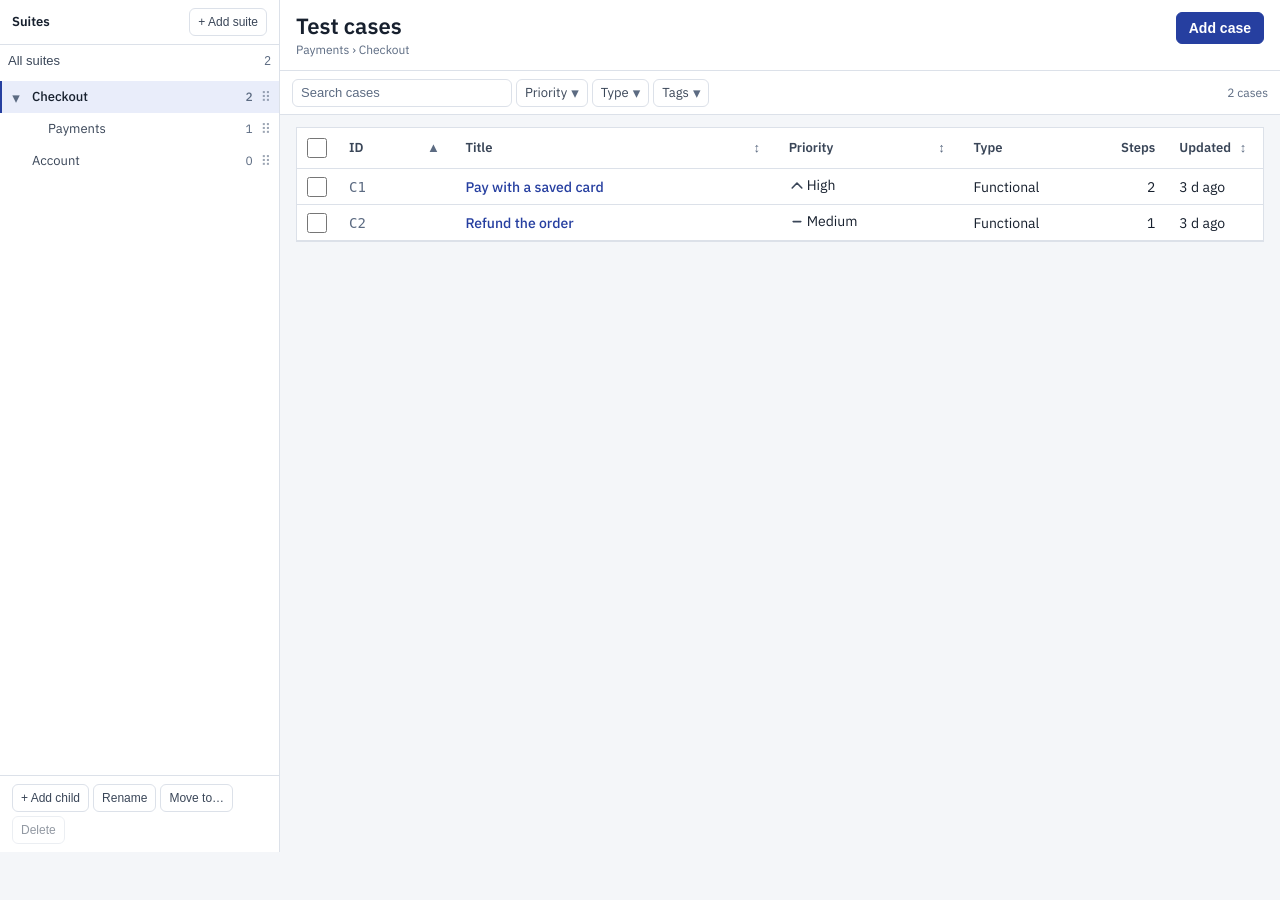
Scenario: cases screen › closes an empty New case form without asking
Expected: the button with aria-label "Open C1" is shown, [465,176,604,196]
Click the button "Add case".
click(1220, 28)  # box [1176,12,1264,44]
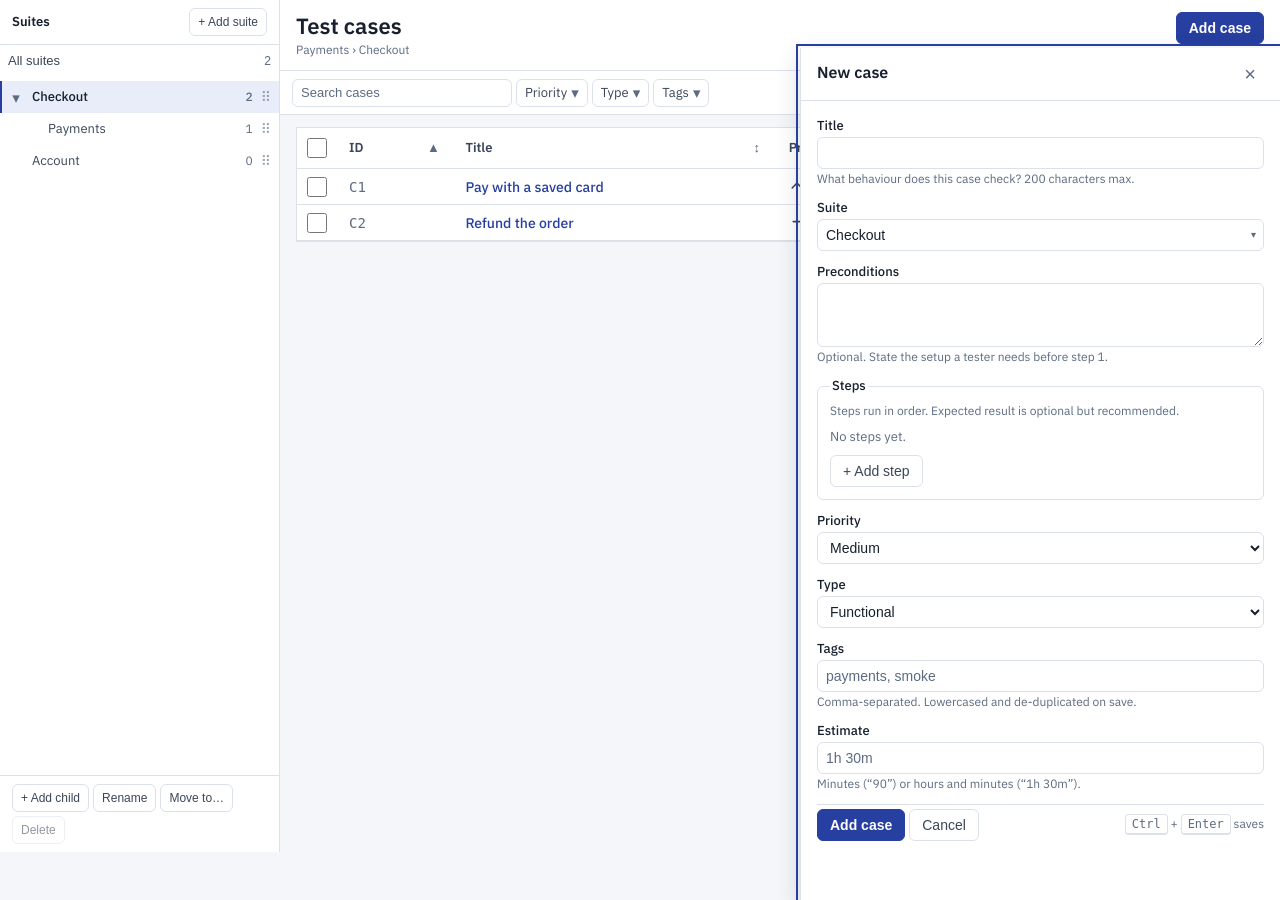
Click the button named "Close".
click(1250, 74)  # box [1236,60,1264,88]
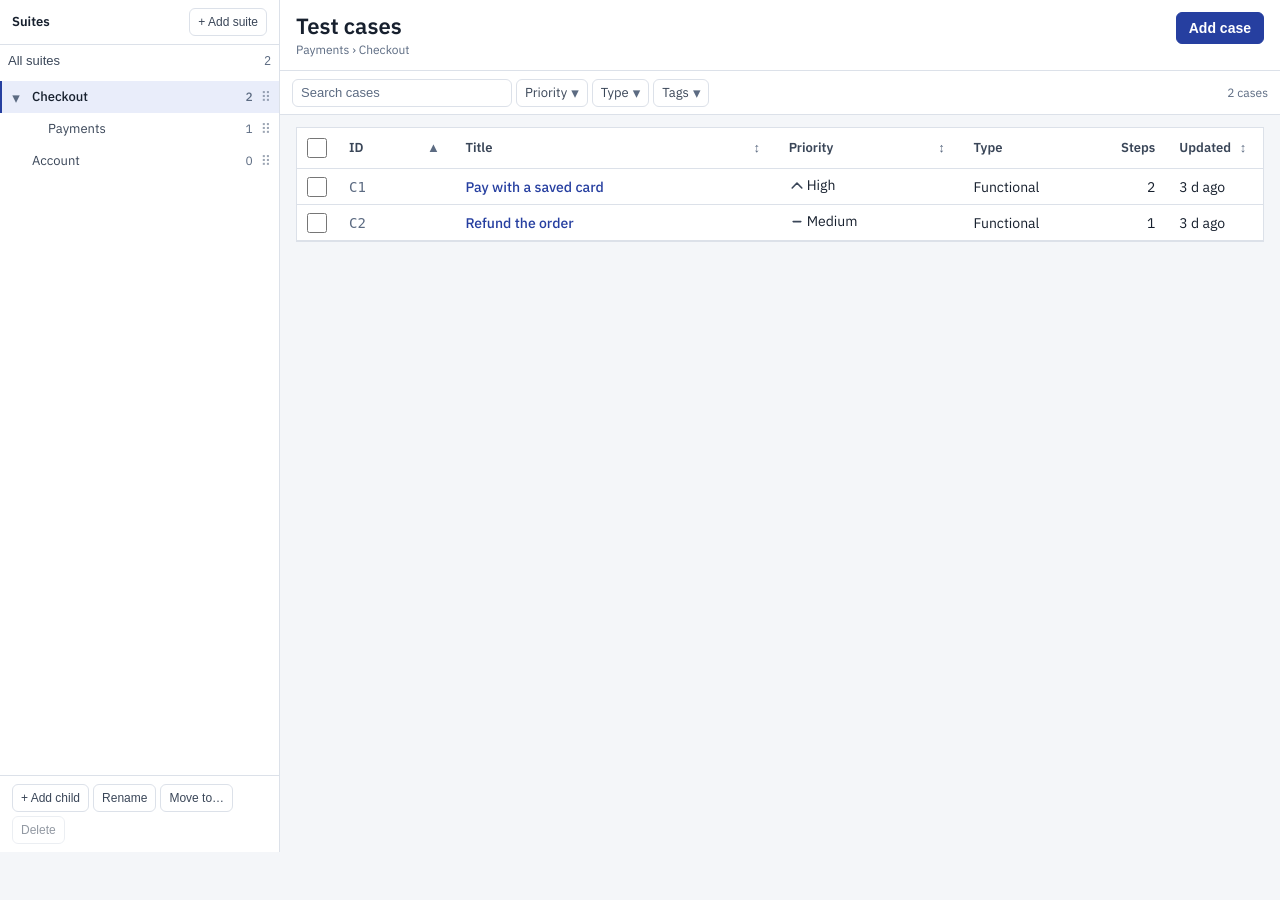
Result: the heading "New case" is gone
